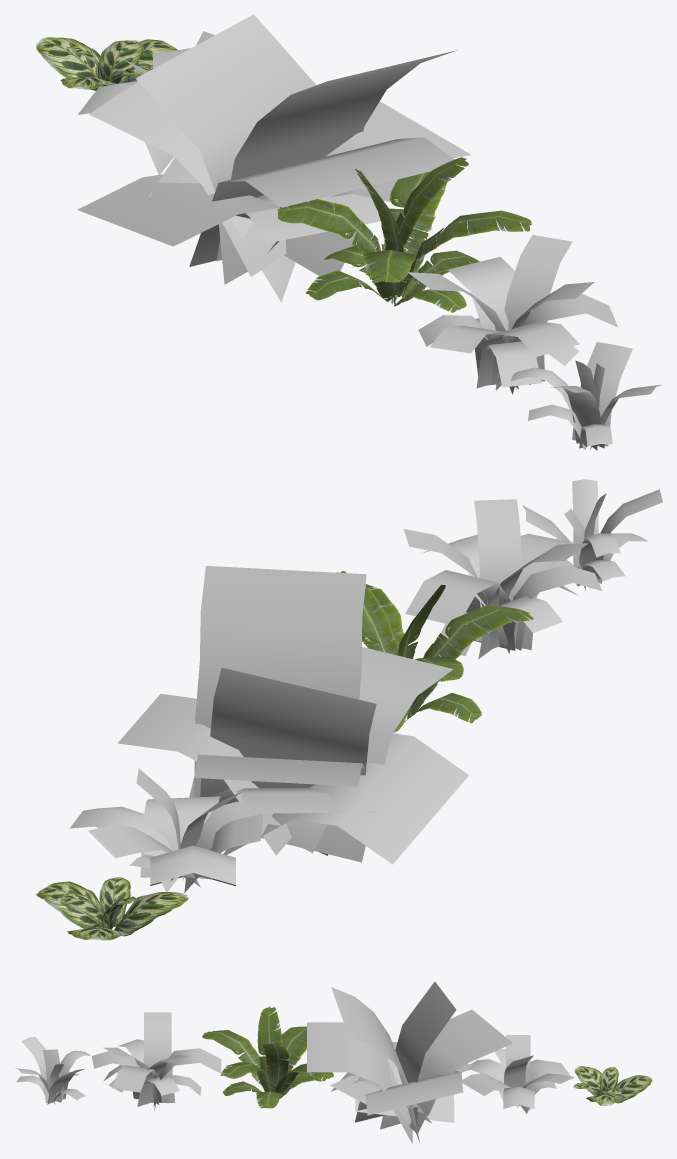
File: Lowpoly tropical plant set.fbx
The picture shows the model from 3 angles, top to bottom: view 1: azimuth 30°, elevation 25°; view 2: azimuth 150°, elevation 25°; view 3: azimuth 270°, elevation 25°; orthographic projection. The views are drawn at different scales.
Visible parts, largest first — view 1: Plant alpha 2, Plant alpha 1, Plant alpha 6, Plant alpha 3, Plant alpha 5, Plant alpha 4; view 2: Plant alpha 2, Plant alpha 1, Plant alpha 4, Plant alpha 6, Plant alpha 5, Plant alpha 3; view 3: Plant alpha 2, Plant alpha 1, Plant alpha 6, Plant alpha 4, Plant alpha 3, Plant alpha 5.
Boxes of the visible parts, x1,y1,x2,y2 form: Plant alpha 2: (77, 14, 470, 302); Plant alpha 1: (408, 235, 617, 394); Plant alpha 6: (277, 157, 532, 312); Plant alpha 3: (510, 342, 661, 450); Plant alpha 5: (36, 37, 177, 90); Plant alpha 4: (78, 31, 214, 174); Plant alpha 2: (117, 566, 468, 864); Plant alpha 1: (403, 499, 602, 658); Plant alpha 4: (69, 768, 281, 892); Plant alpha 6: (336, 571, 533, 732); Plant alpha 5: (36, 877, 188, 940); Plant alpha 3: (522, 479, 662, 591); Plant alpha 2: (307, 981, 512, 1143); Plant alpha 1: (91, 1012, 221, 1110); Plant alpha 6: (202, 1006, 333, 1108); Plant alpha 4: (462, 1035, 574, 1113); Plant alpha 3: (15, 1037, 90, 1104); Plant alpha 5: (573, 1066, 652, 1105).
Size of the model in its own units: 371 by 284 by 1163.
